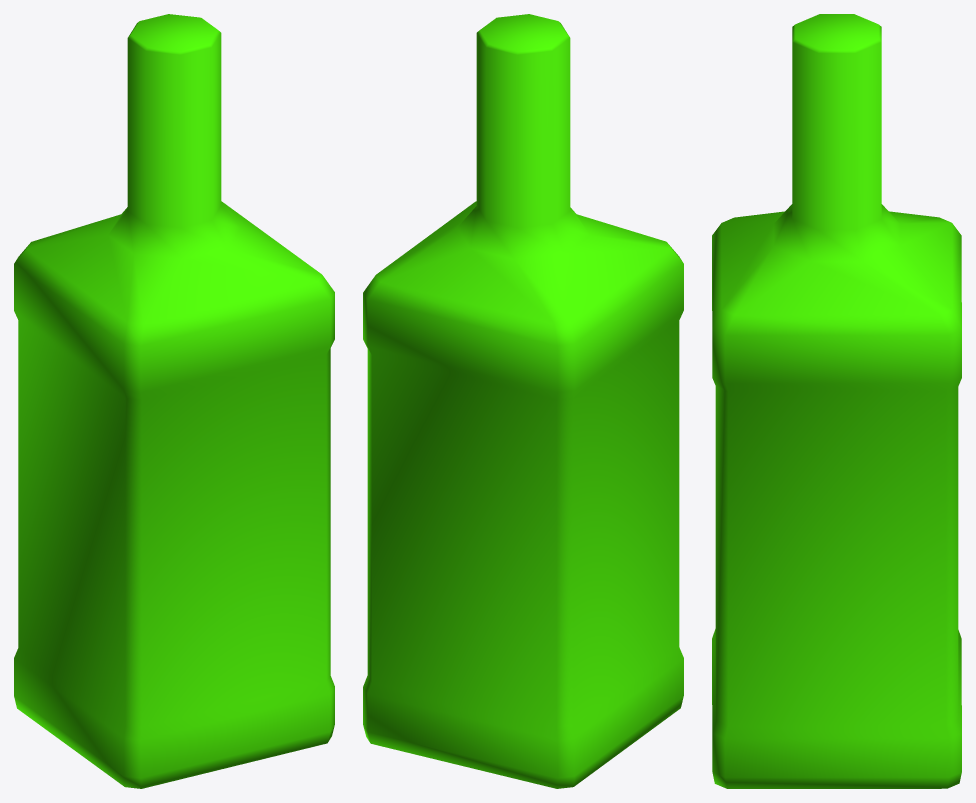
Rendered from 20_tequila_olmeca.gltf.
3 renders of one model, left to right at view 1: azimuth 30°, elevation 25°; view 2: azimuth 150°, elevation 25°; view 3: azimuth 270°, elevation 25°, orthographic. The views are drawn at different scales.
Parts seen in each view (by area): view 1: Olmeca_Atlas_0; view 2: Olmeca_Atlas_0; view 3: Olmeca_Atlas_0.
Part boxes in pixels (x1,y1,x2,y2): Olmeca_Atlas_0: [14, 14, 334, 788]; Olmeca_Atlas_0: [363, 14, 683, 788]; Olmeca_Atlas_0: [712, 14, 961, 788].
Bounding box in the file's own units: 7.47 × 23.49 × 7.47.
Materials: 1 (1 with a texture image).
